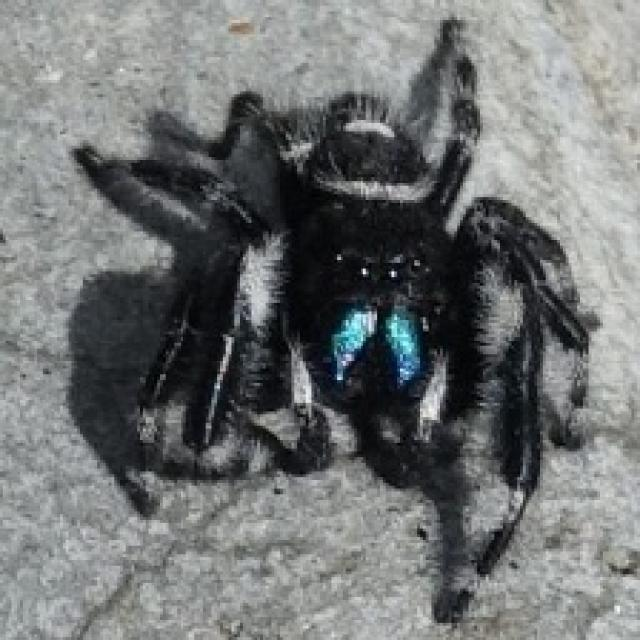Non venomous spider: (77, 16, 595, 596)
